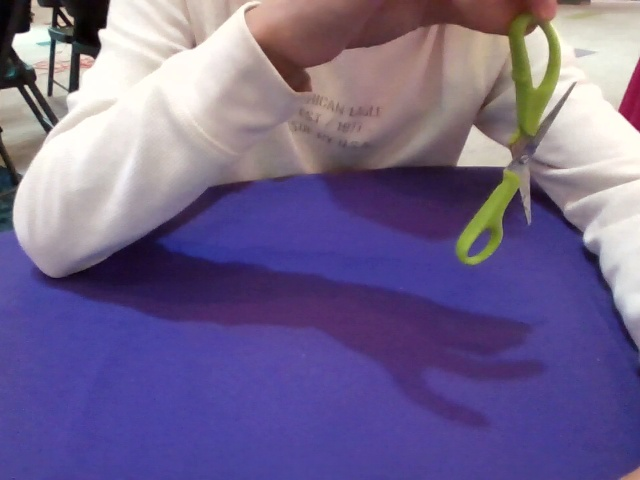tijeras: (452, 12, 574, 266)
